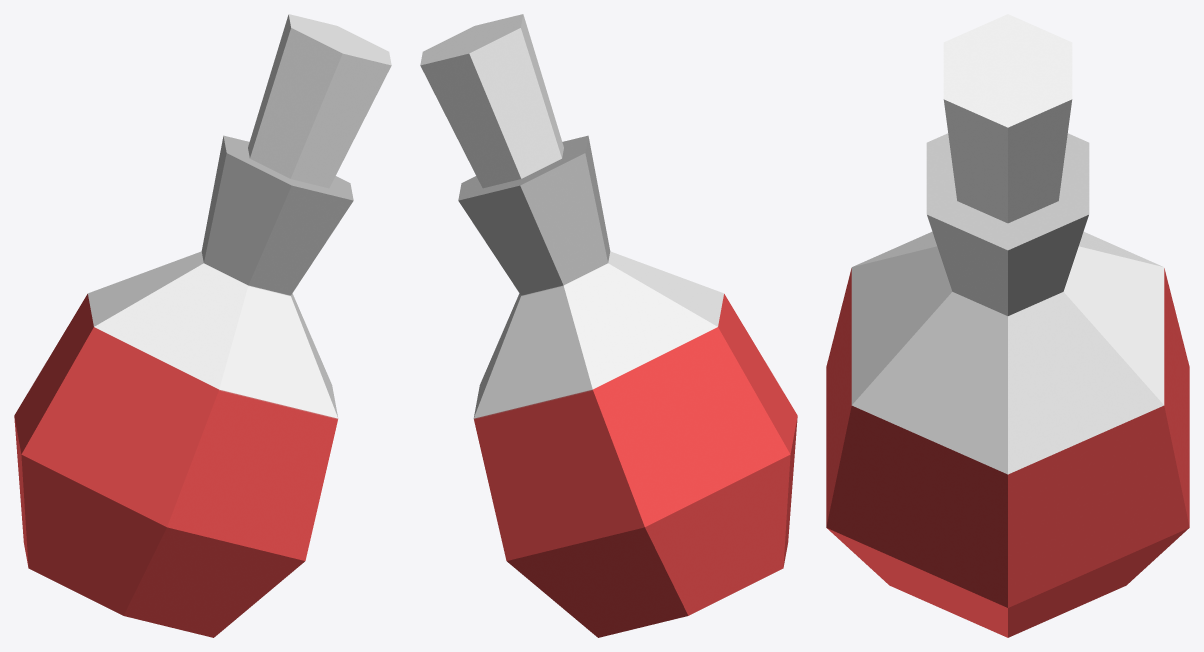
The model's file is Heal.obj.
3 views of the same model, side by side, from view 1: azimuth 30°, elevation 25°; view 2: azimuth 150°, elevation 25°; view 3: azimuth 270°, elevation 25° (orthographic). The views are drawn at different scales.
Visible parts, largest first — view 1: Cylinder002; view 2: Cylinder002; view 3: Cylinder002.
Boxes of the visible parts, x1,y1,x2,y2 form: Cylinder002: [14, 14, 391, 637]; Cylinder002: [420, 14, 797, 637]; Cylinder002: [826, 14, 1189, 637].
Size of the model in its own units: 53.61 by 78.67 by 38.58.
1 material, 1 textured.
